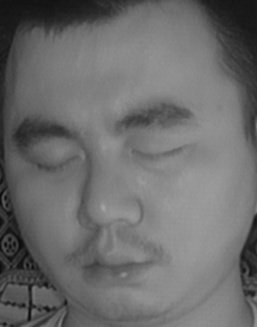blink: (133, 138, 193, 172), (34, 149, 85, 182)
mouth: (73, 235, 156, 294)
